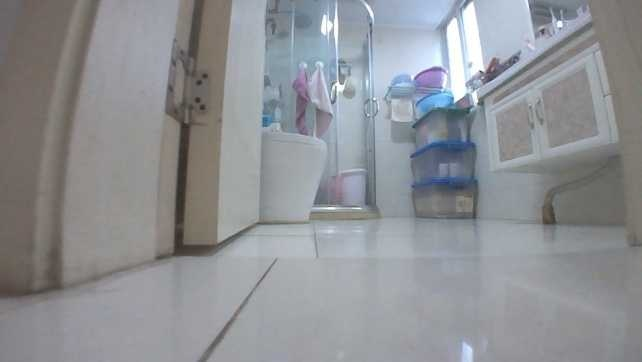toilet_part: (257, 130, 326, 224)
washstand: (474, 9, 625, 175)
